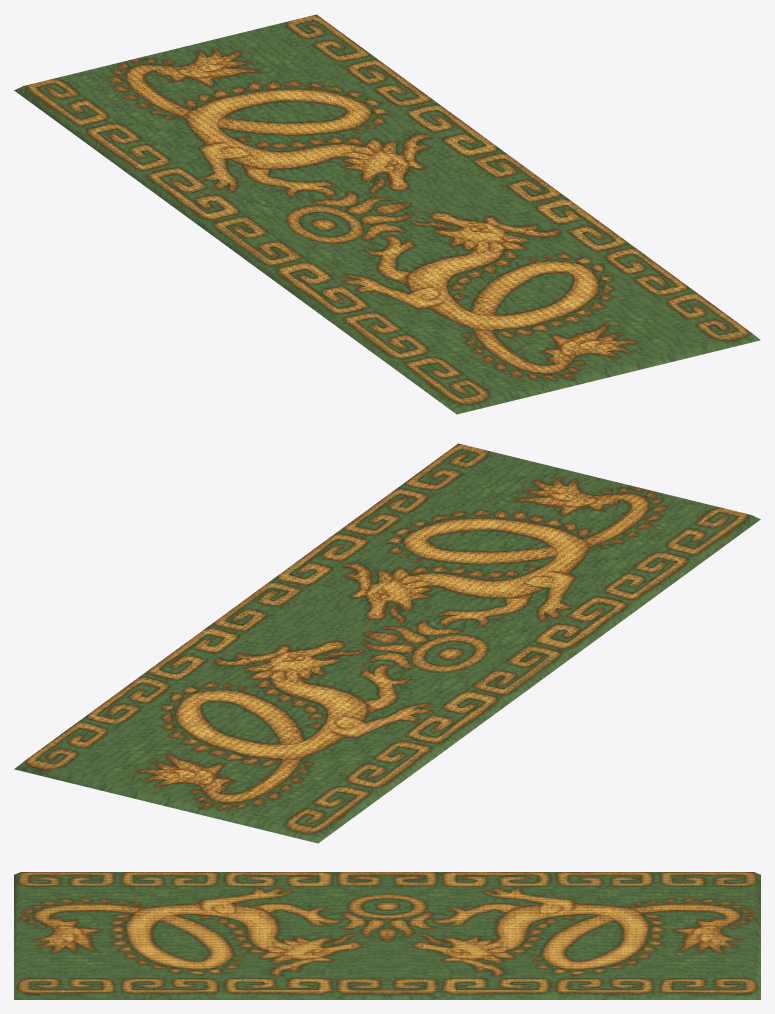
Rendered from rug10.glb.
The picture shows the model from 3 angles, top to bottom: view 1: azimuth 30°, elevation 25°; view 2: azimuth 150°, elevation 25°; view 3: azimuth 270°, elevation 25°; orthographic projection. The views are drawn at different scales.
Visible parts, largest first — view 1: Prop_Rug_01; view 2: Prop_Rug_01; view 3: Prop_Rug_01.
Boxes of the visible parts, x1=… form: Prop_Rug_01: x1=14, y1=14, x2=760, y2=414; Prop_Rug_01: x1=14, y1=443, x2=760, y2=843; Prop_Rug_01: x1=14, y1=872, x2=760, y2=999.
Bounding box in the file's own units: 1.6 × 0.03 × 4.04.
1 material, 1 textured.
